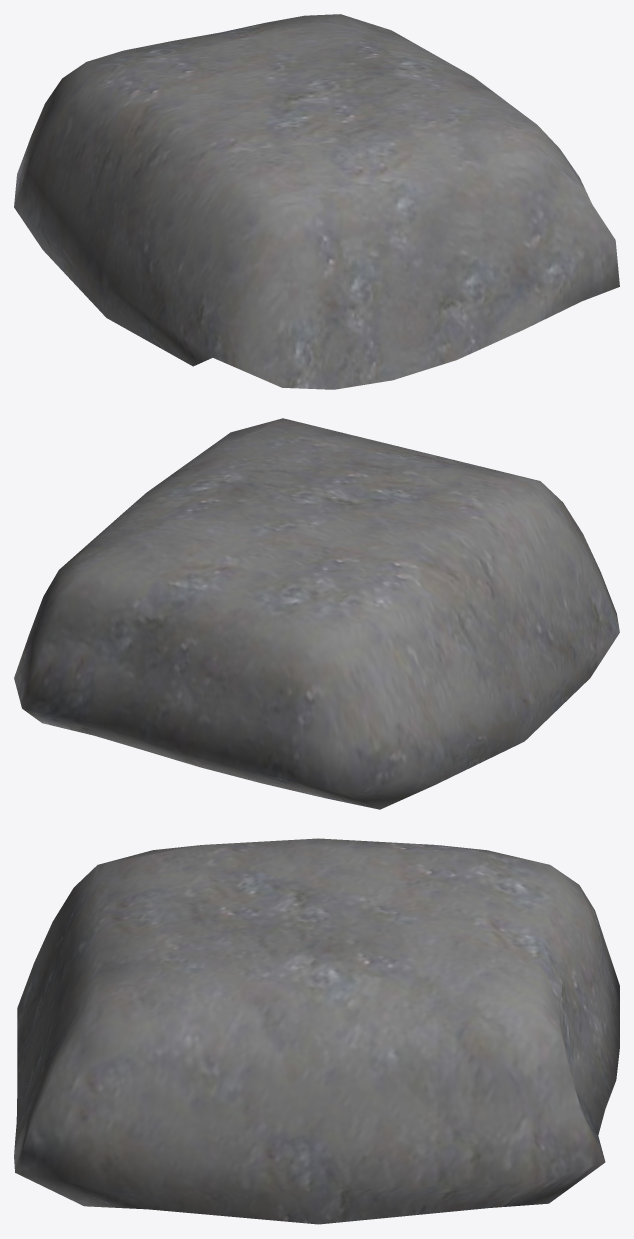
File: SM_Sun_Kak_stone_D.fbx
3 views of the same model, one above another, from view 1: azimuth 30°, elevation 25°; view 2: azimuth 150°, elevation 25°; view 3: azimuth 270°, elevation 25° (orthographic). The views are drawn at different scales.
Parts seen in each view (by area): view 1: SM_Sun_Kak_stone_D; view 2: SM_Sun_Kak_stone_D; view 3: SM_Sun_Kak_stone_D.
Part boxes in pixels (<box>): SM_Sun_Kak_stone_D: <box>14,14,619,389</box>; SM_Sun_Kak_stone_D: <box>14,418,619,809</box>; SM_Sun_Kak_stone_D: <box>14,838,619,1224</box>.
Size of the model in its own units: 88.61 by 37.85 by 98.67.
